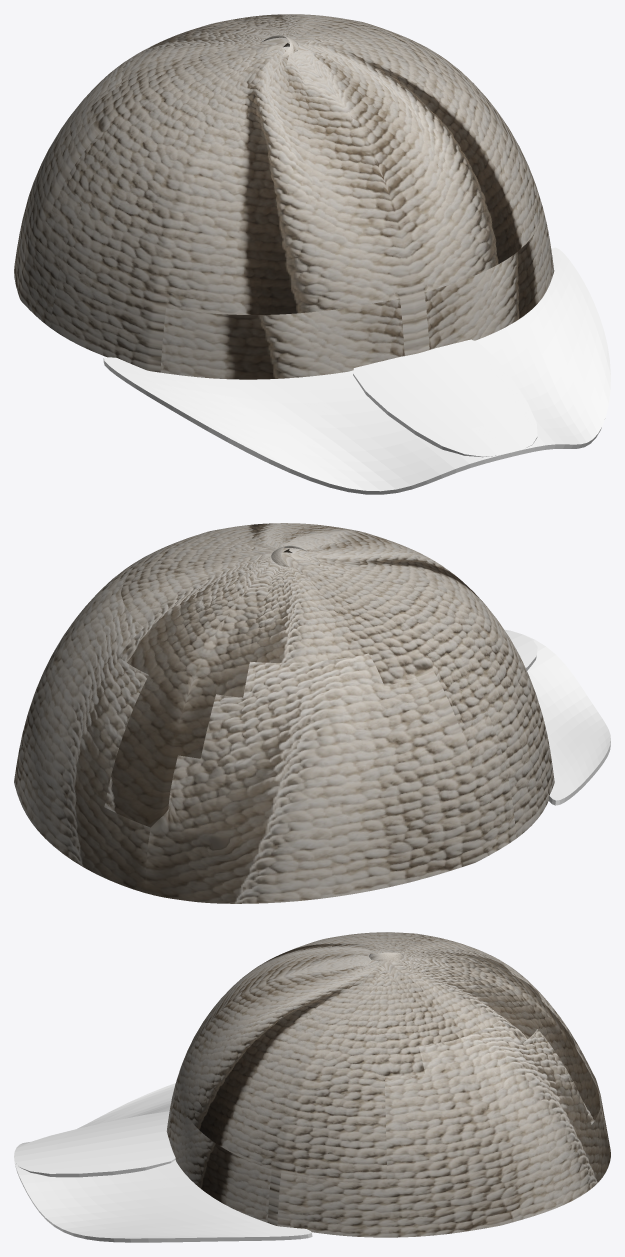
The model's file is gorraf2.obj.
3 views of the same model, one above another, from view 1: azimuth 30°, elevation 25°; view 2: azimuth 150°, elevation 25°; view 3: azimuth 270°, elevation 25° (orthographic). The views are drawn at different scales.
Visible parts, largest first — view 1: cabeza, cabeza.001; view 2: cabeza, cabeza.001; view 3: cabeza, cabeza.001.
Boxes of the visible parts, bbox=[...] form: cabeza: bbox=[14, 14, 554, 379]; cabeza.001: bbox=[103, 247, 610, 494]; cabeza: bbox=[14, 523, 554, 903]; cabeza.001: bbox=[504, 629, 610, 805]; cabeza: bbox=[166, 932, 610, 1237]; cabeza.001: bbox=[14, 1083, 312, 1242].
Size of the model in its own units: 1.98 by 1.16 by 2.67.
